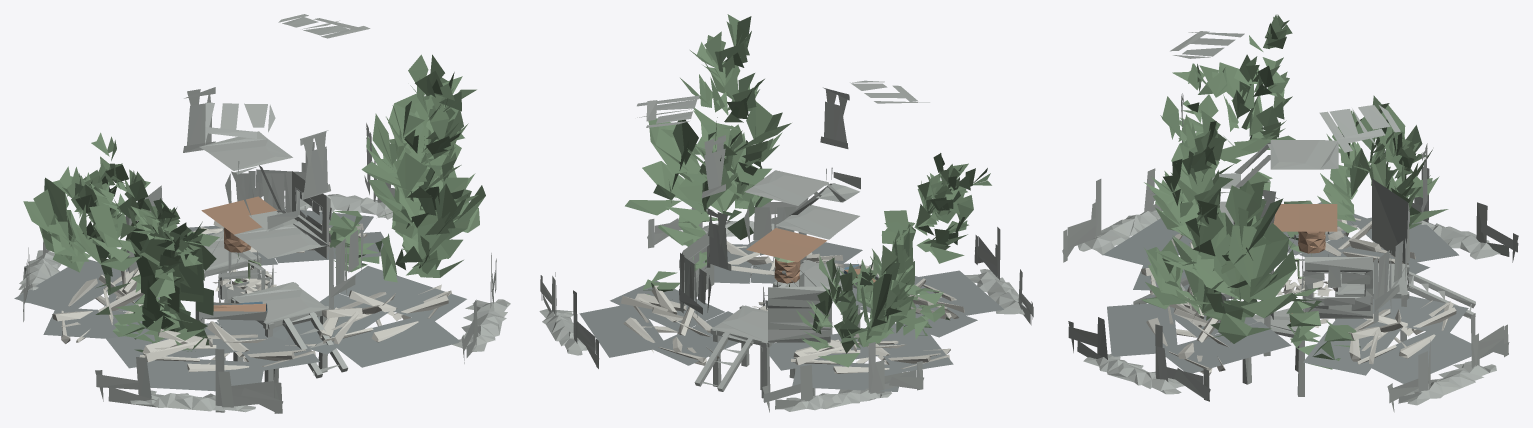
The model's file is water_well_c.glb.
3 views of the same model, side by side, from view 1: azimuth 30°, elevation 25°; view 2: azimuth 150°, elevation 25°; view 3: azimuth 270°, elevation 25° (orthographic). The views are drawn at different scales.
Parts seen in each view (by area): view 1: tire_stack_b_LOD0, beam_a, driftwood_set_2_LOD0, ground_cloth_a_LOD0; view 2: beam_a, tire_stack_b_LOD0, driftwood_set_2_LOD0, ground_cloth_a_LOD0; view 3: tire_stack_b_LOD0, beam_a, driftwood_set_2_LOD0, ground_cloth_a_LOD0.
Boxes of the visible parts, box(x1,y1,x2,y2) form: tire_stack_b_LOD0: box(23, 54, 485, 352); beam_a: box(18, 14, 510, 413); driftwood_set_2_LOD0: box(14, 208, 466, 391); ground_cloth_a_LOD0: box(52, 220, 451, 372); beam_a: box(539, 80, 1033, 412); tire_stack_b_LOD0: box(625, 14, 991, 367); driftwood_set_2_LOD0: box(579, 240, 1003, 391); ground_cloth_a_LOD0: box(620, 241, 964, 373); tire_stack_b_LOD0: box(1141, 14, 1448, 369); beam_a: box(1062, 31, 1518, 412); driftwood_set_2_LOD0: box(1103, 202, 1471, 383); ground_cloth_a_LOD0: box(1141, 203, 1456, 376).
Size of the model in its own units: 22.22 by 16.48 by 20.09.
